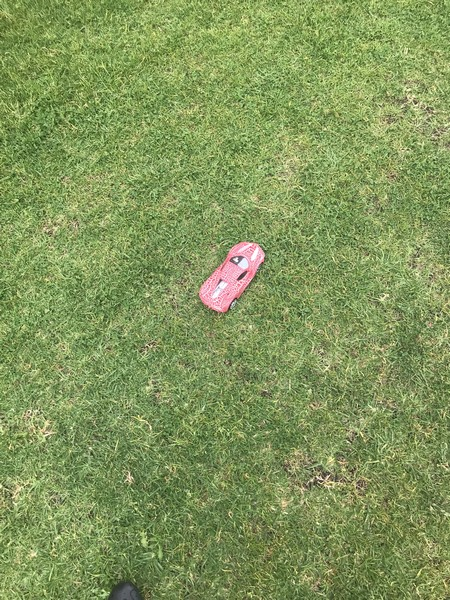RC: (197, 240, 266, 316)
